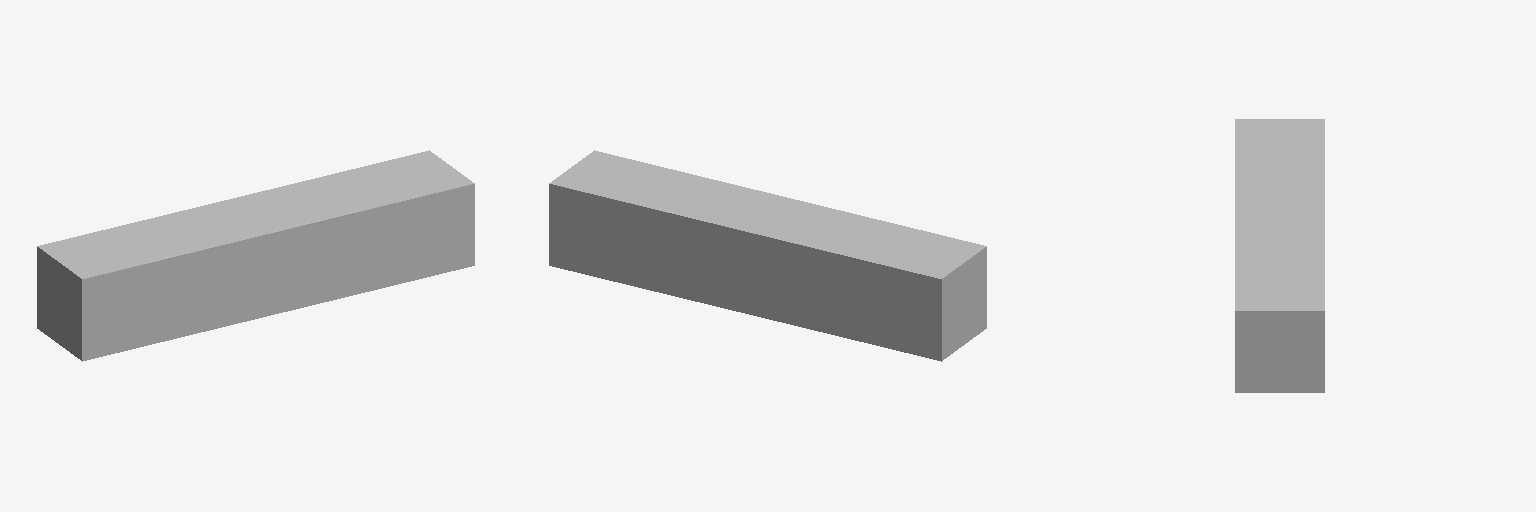
File: molniya1Img.obj
The picture shows the model from 3 angles: view 1: azimuth 30°, elevation 25°; view 2: azimuth 150°, elevation 25°; view 3: azimuth 270°, elevation 25°; orthographic projection.
Visible parts, largest first — view 1: object 1; view 2: object 1; view 3: object 1.
Boxes of the visible parts, x1,y1,x2,y2 form: object 1: [37, 150, 474, 361]; object 1: [549, 150, 986, 361]; object 1: [1235, 119, 1324, 392].
Size of the model in its own units: 1 by 0.2 by 0.2.